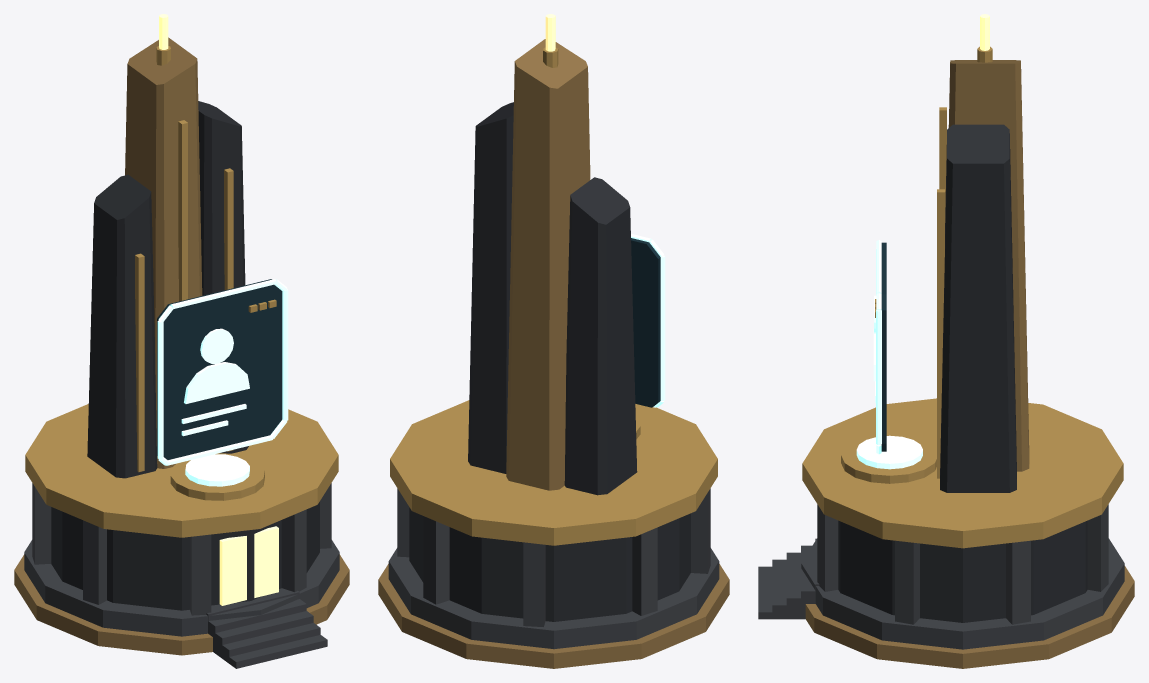
File: identity.glb
3 views of the same model, side by side, from view 1: azimuth 30°, elevation 25°; view 2: azimuth 150°, elevation 25°; view 3: azimuth 270°, elevation 25° (orthographic). The views are drawn at different scales.
Visible parts, largest first — view 1: identity_geo_id_carbon, identity_geo_id_brass, identity_geo_id_graphite, identity_geo_id_bronze, identity_geo_id_display, identity_geo_id_phosphor, identity_geo_id_amber; view 2: identity_geo_id_carbon, identity_geo_id_bronze, identity_geo_id_brass, identity_geo_id_graphite, identity_geo_id_display, identity_geo_id_phosphor; view 3: identity_geo_id_carbon, identity_geo_id_brass, identity_geo_id_graphite, identity_geo_id_bronze, identity_geo_id_phosphor, identity_geo_id_display.
Part boxes in pixels (<box>): identity_geo_id_carbon: <box>51,101,319,610</box>; identity_geo_id_brass: <box>25,46,338,537</box>; identity_geo_id_graphite: <box>24,483,339,668</box>; identity_geo_id_bronze: <box>14,37,349,655</box>; identity_geo_id_display: <box>157,279,282,459</box>; identity_geo_id_phosphor: <box>157,279,288,486</box>; identity_geo_id_amber: <box>159,14,278,605</box>; identity_geo_id_carbon: <box>409,102,690,621</box>; identity_geo_id_bronze: <box>378,39,729,668</box>; identity_geo_id_brass: <box>390,47,717,545</box>; identity_geo_id_graphite: <box>388,488,719,649</box>; identity_geo_id_display: <box>631,238,660,407</box>; identity_geo_id_phosphor: <box>631,234,665,407</box>; identity_geo_id_carbon: <box>838,124,1087,622</box>; identity_geo_id_brass: <box>802,46,1123,548</box>; identity_geo_id_graphite: <box>758,504,1124,649</box>; identity_geo_id_bronze: <box>805,60,1134,668</box>; identity_geo_id_phosphor: <box>856,240,922,469</box>; identity_geo_id_display: <box>881,242,886,451</box>.
Size of the model in its own units: 5.78 by 10.7 by 6.34.
